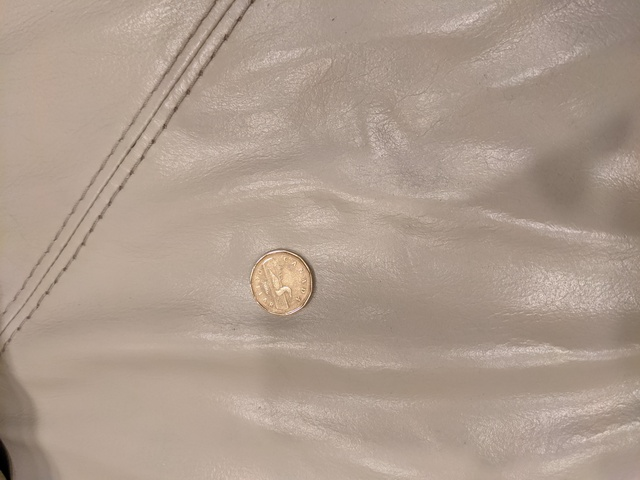loonie: (245, 249, 317, 319)
